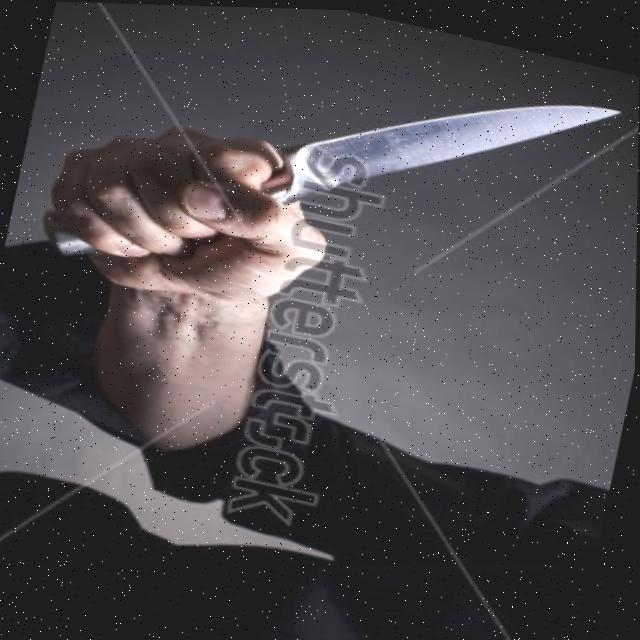knife: (274, 22, 630, 264)
